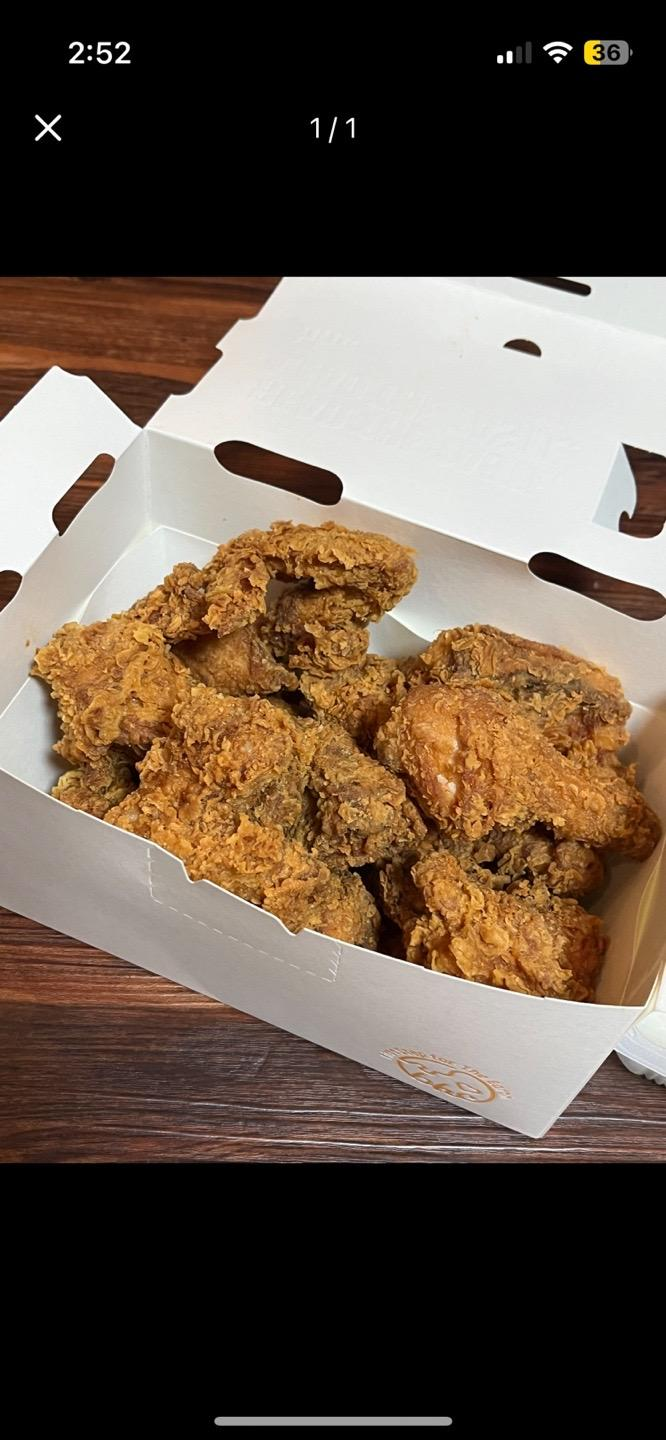Lunch Box: (0, 278, 665, 1137)
